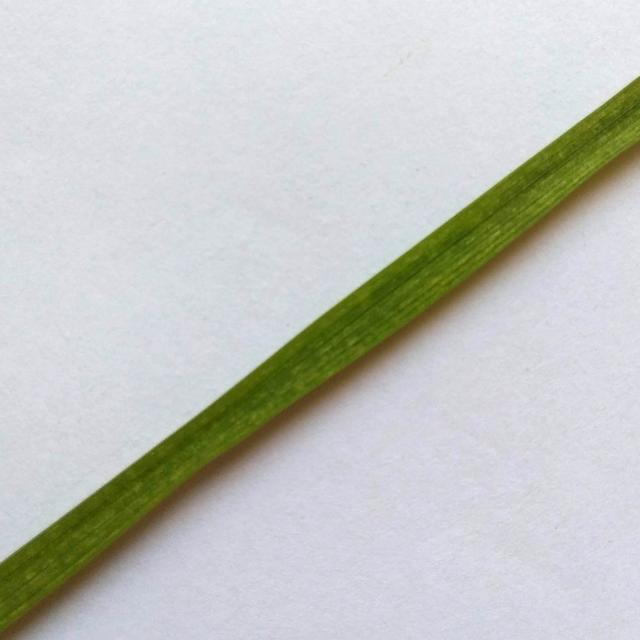Rice_Healthy: (0, 77, 640, 630)
